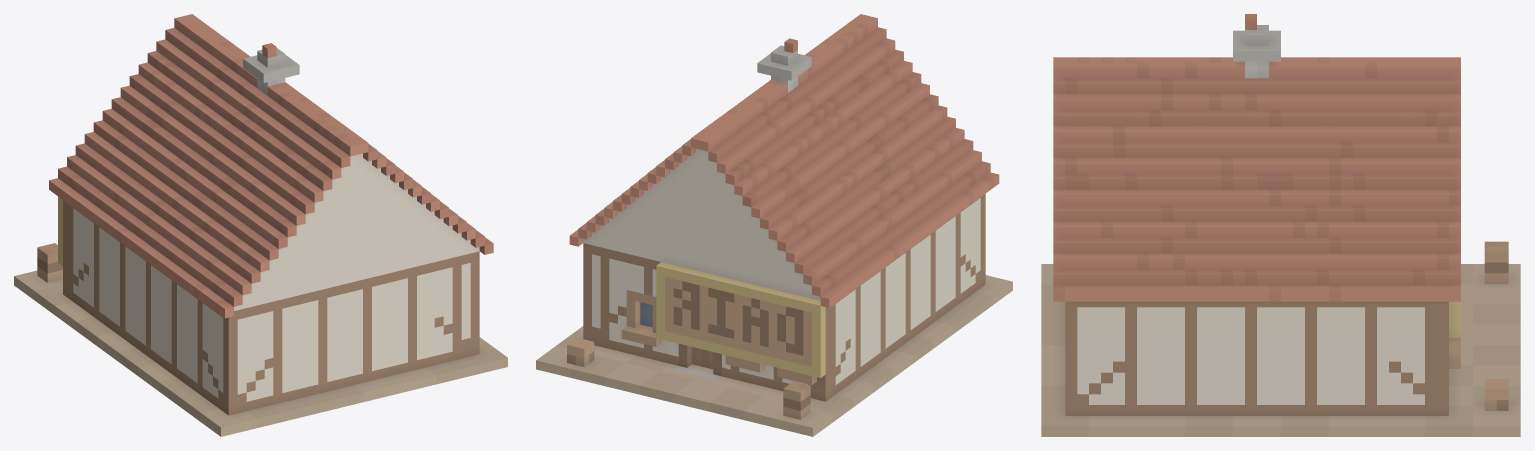
Rendered from dairy_farm.glb.
3 views of the same model, side by side, from view 1: azimuth 30°, elevation 25°; view 2: azimuth 150°, elevation 25°; view 3: azimuth 270°, elevation 25° (orthographic). The views are drawn at different scales.
Visible parts, largest first — view 1: dairy_farm; view 2: dairy_farm; view 3: dairy_farm.
Boxes of the visible parts, <box> form: dairy_farm: <box>14,14,507,436</box>; dairy_farm: <box>536,14,1012,436</box>; dairy_farm: <box>1041,14,1520,436</box>.
Size of the model in its own units: 4 by 3.88 by 5.
